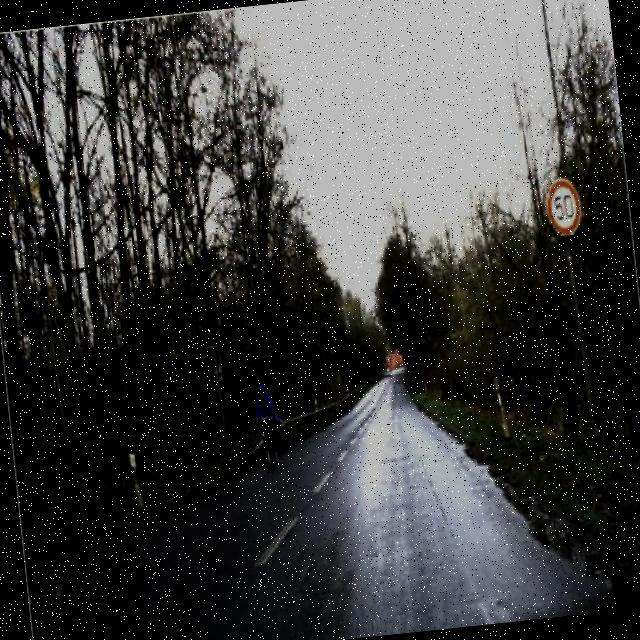Ograniczenie predkosci do 50: (540, 176, 588, 243)
